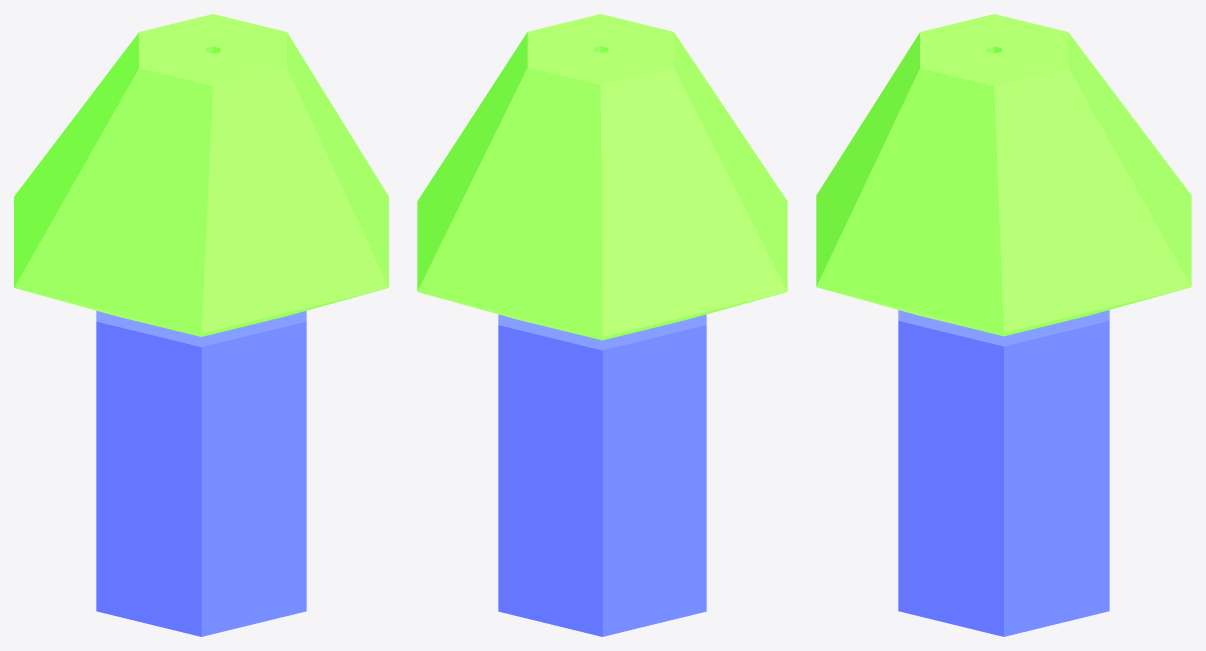
File: TvPlant.fbx
3 views of the same model, side by side, from view 1: azimuth 30°, elevation 25°; view 2: azimuth 150°, elevation 25°; view 3: azimuth 270°, elevation 25° (orthographic).
Parts seen in each view (by area): view 1: Cylinder_3; view 2: Cylinder_3; view 3: Cylinder_3.
Part boxes in pixels (x1,y1,x2,y2): Cylinder_3: (14, 14, 388, 636); Cylinder_3: (417, 14, 787, 636); Cylinder_3: (816, 14, 1191, 636).
Bounding box in the file's own units: 60.38 × 82.75 × 52.29.
